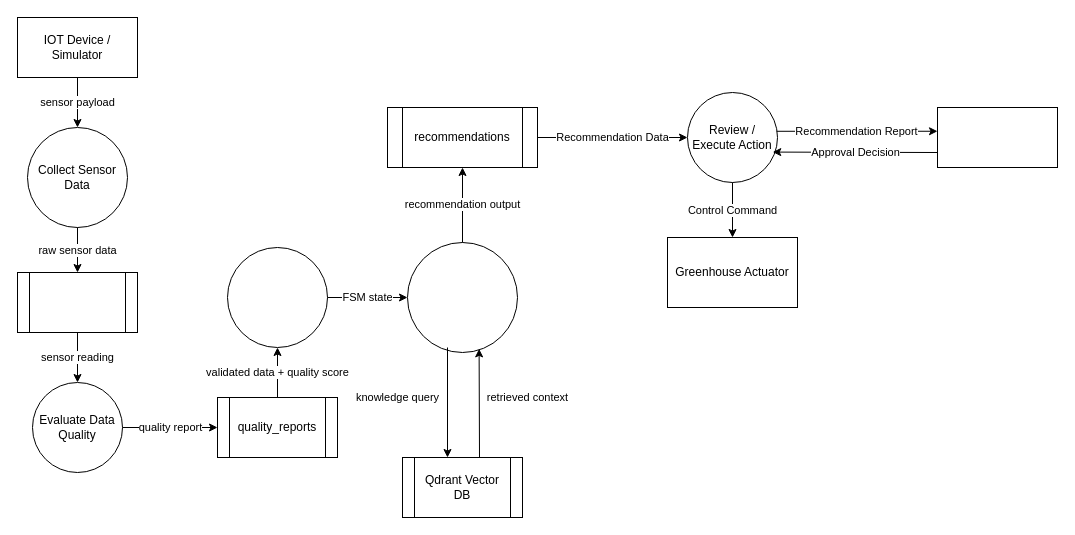
Some shapes in this 1075 by 535 pixel diagram are drawn without their labels. Here are the shapes that lost their labels. From the top down, the centre of each, then its label:
At pixel 997 137: "User / Admin".
At pixel 77 302: "sensor_readings".
At pixel 277 297: "Analyze FSM State".
At pixel 462 297: "Generate AI Recommendation".
